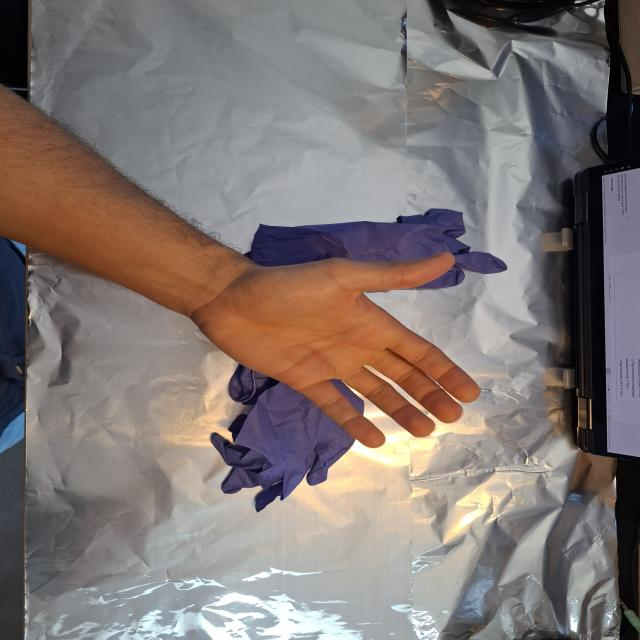glove_off: (186, 250, 484, 449)
